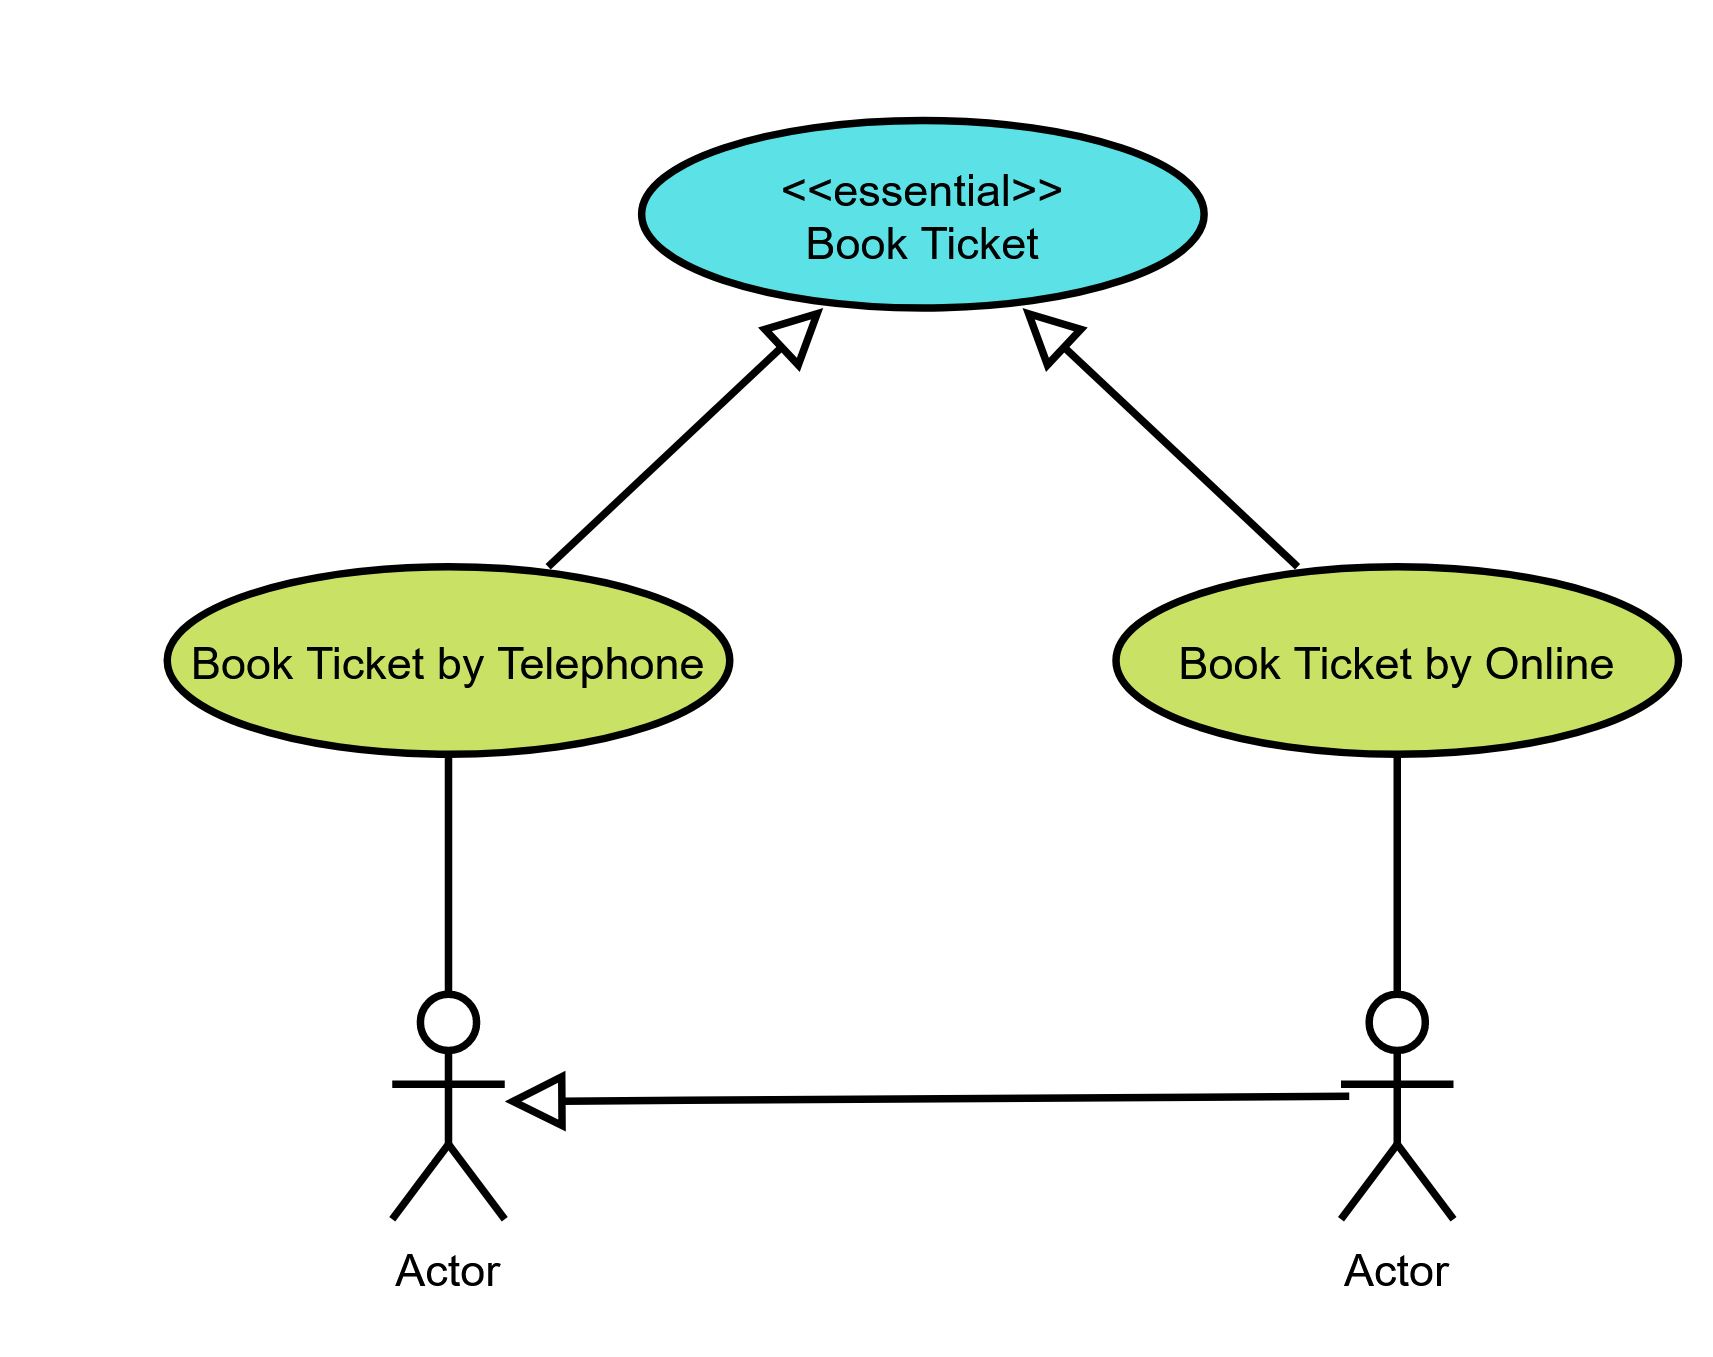actor: (387, 993, 510, 1226), (1338, 990, 1460, 1224)
association: (421, 756, 482, 989), (1367, 756, 1422, 990)
generalization: (546, 304, 827, 566), (1021, 302, 1294, 560), (506, 1061, 1338, 1130)
text: (768, 159, 1073, 267), (1167, 631, 1616, 699), (172, 633, 704, 690), (388, 1244, 516, 1297), (1343, 1249, 1463, 1297)
use_case: (634, 113, 1205, 314), (157, 560, 734, 759), (1112, 560, 1680, 762)
